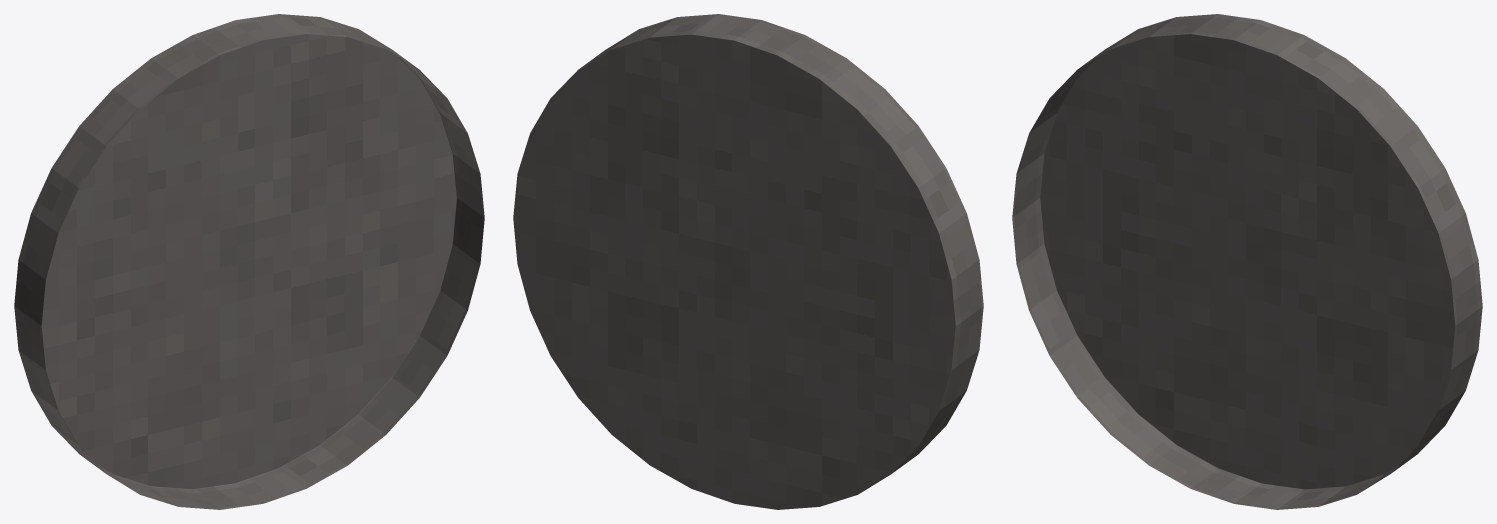
The model's file is Drum.glb.
The picture shows the model from 3 angles, left to right: view 1: azimuth 30°, elevation 25°; view 2: azimuth 150°, elevation 25°; view 3: azimuth 330°, elevation 25°; orthographic projection.
Visible parts, largest first — view 1: Drum; view 2: Drum; view 3: Drum.
Boxes of the visible parts, x1,y1,x2,y2 form: Drum: (14, 14, 484, 509); Drum: (513, 14, 983, 509); Drum: (1012, 14, 1482, 509).
Size of the model in its own units: 0.97 by 0.97 by 0.105.
Materials: 1 (1 with a texture image).
